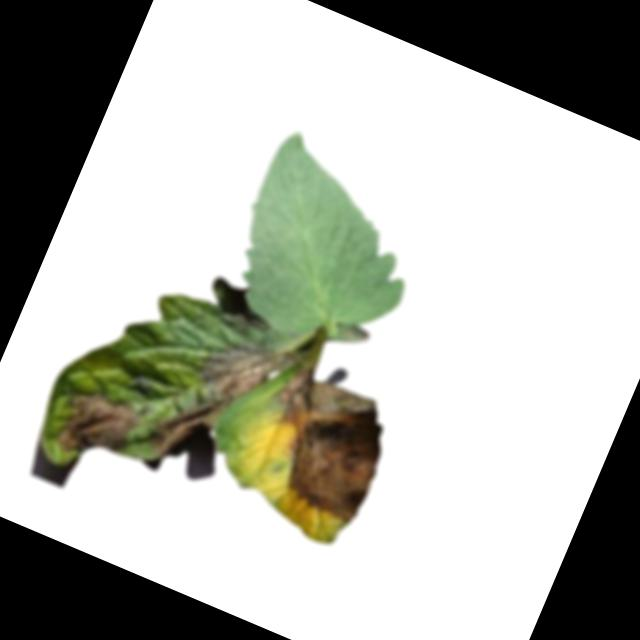Late_blight: (235, 352, 407, 528), (143, 313, 306, 496), (48, 379, 148, 476)
